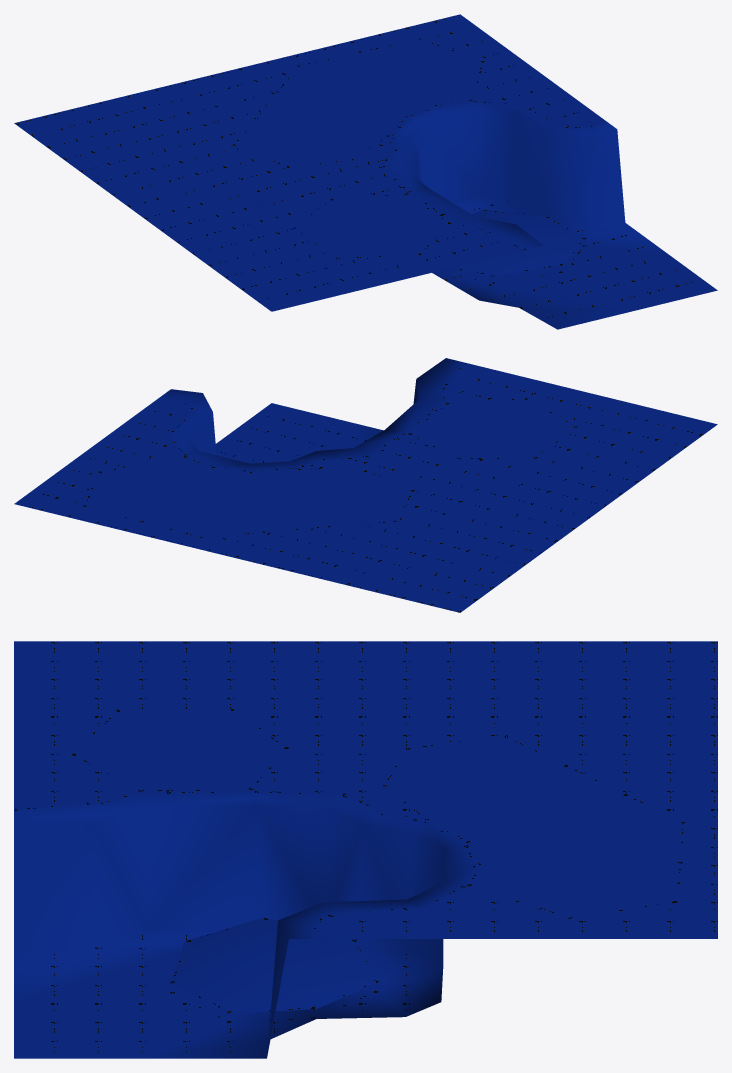
File: GRD_S_C4_2.fbx
The picture shows the model from 3 angles, top to bottom: view 1: azimuth 30°, elevation 25°; view 2: azimuth 150°, elevation 25°; view 3: azimuth 270°, elevation 25°; orthographic projection. The views are drawn at different scales.
Visible parts, largest first — view 1: material_00022000, material_C0032000, material_00042000, material_C0012000, material_C0052000; view 2: material_00022000, material_C0032000, material_00042000; view 3: material_00022000, material_00042000, material_C0032000, material_C0012000, material_C0052000.
Part boxes in pixels (x1,y1,x2,y2): material_00022000: (14, 14, 717, 329); material_C0032000: (232, 38, 484, 259); material_00042000: (379, 101, 625, 250); material_C0012000: (451, 209, 586, 276); material_C0052000: (434, 243, 586, 283); material_00022000: (14, 363, 717, 612); material_C0032000: (83, 398, 578, 538); material_00042000: (159, 358, 466, 471); material_00022000: (14, 641, 717, 1058); material_00042000: (14, 790, 477, 1057); material_C0032000: (70, 709, 685, 919); material_C0012000: (169, 917, 379, 1013); material_C0052000: (169, 983, 379, 1023).
Size of the model in its own units: 12800 by 2400 by 12800.
